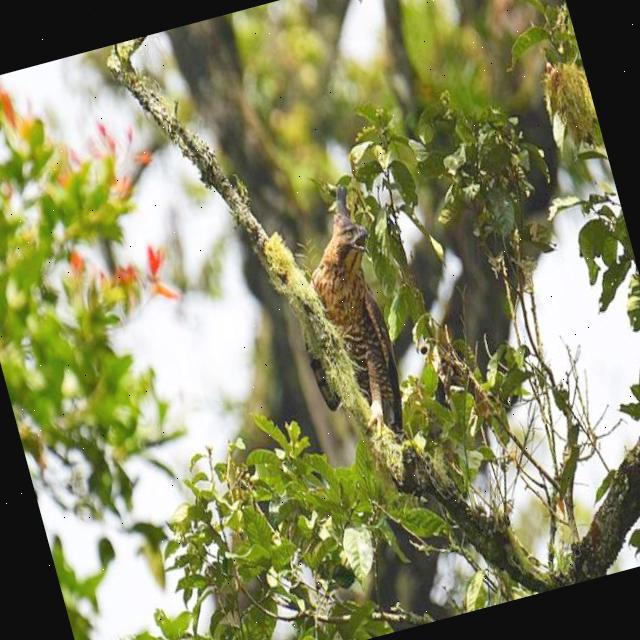Elang Jawa: (244, 158, 454, 497)
